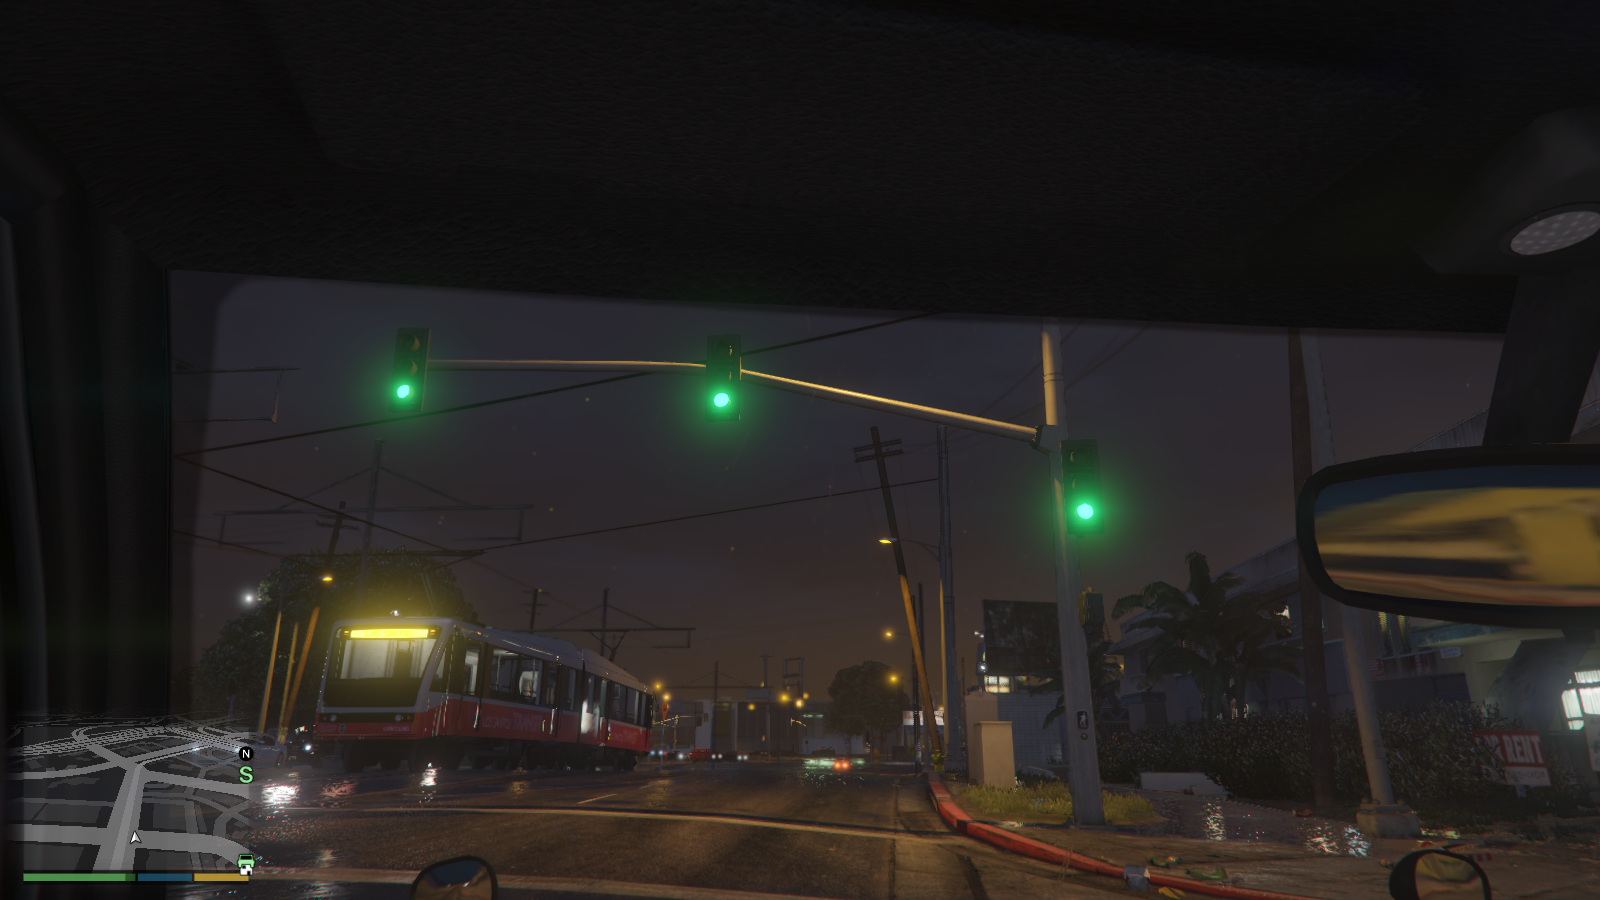green: (1062, 441, 1103, 532), (386, 329, 427, 413), (705, 335, 743, 418)
